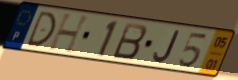1: (96, 19, 121, 58)
5: (177, 31, 211, 69)
B: (111, 21, 150, 61)
D: (24, 10, 58, 48)
H: (46, 13, 92, 56)
J: (151, 30, 181, 65)
